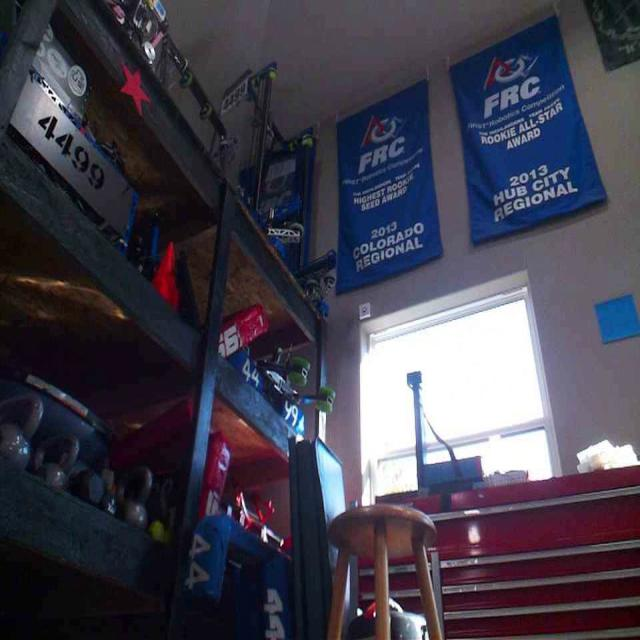square_blue: (594, 291, 639, 344)
star_red: (117, 58, 148, 114)
